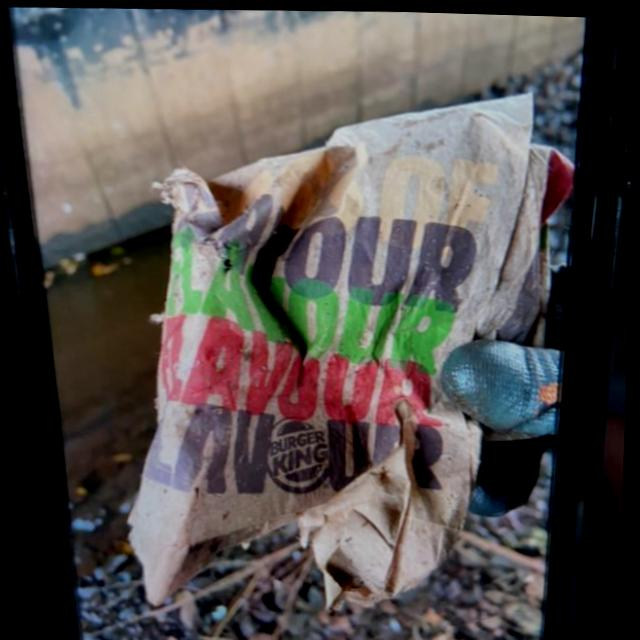Paper: (115, 68, 586, 623)
